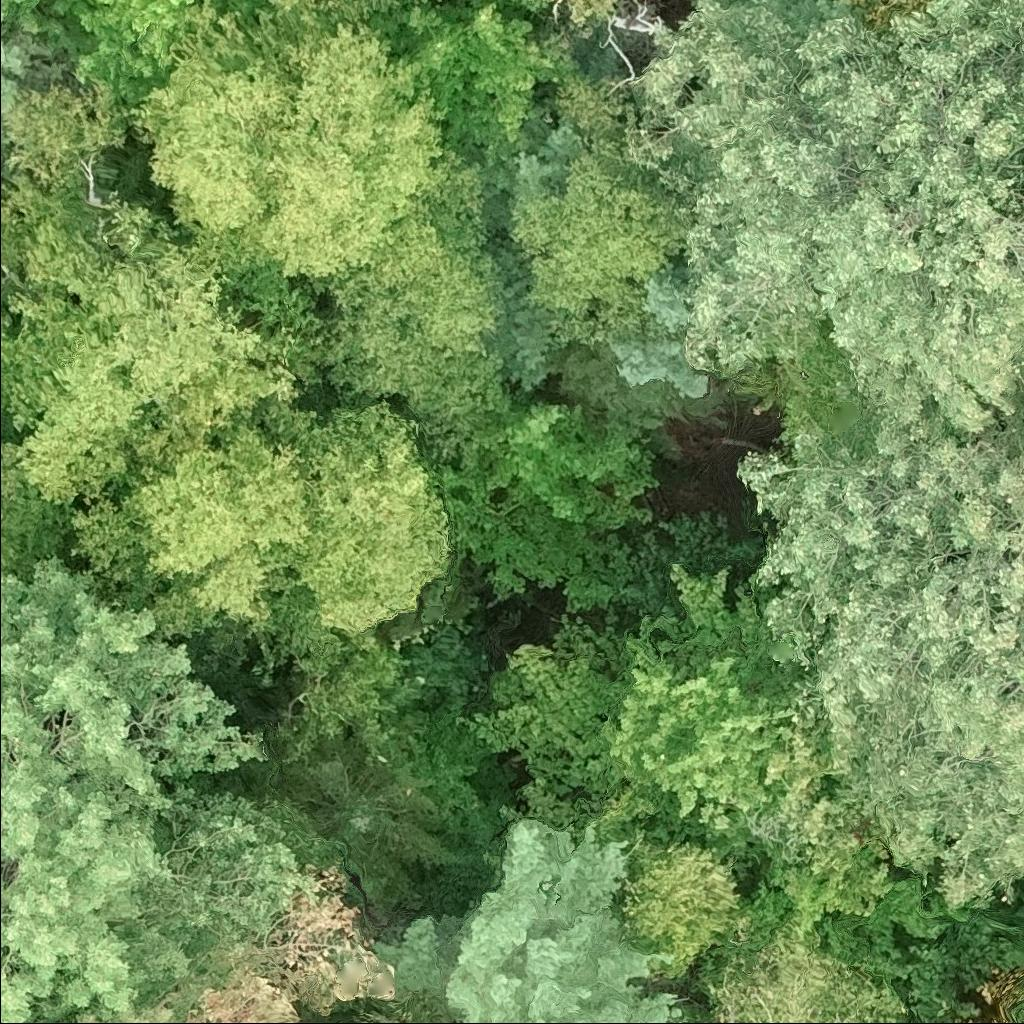crown: (0, 551, 318, 1023), (733, 410, 1023, 909), (372, 806, 687, 1023), (598, 560, 797, 836), (72, 862, 385, 1023), (696, 909, 916, 1023), (624, 840, 745, 976), (35, 1022, 48, 1023)
